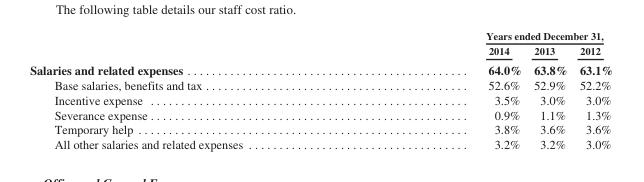table: (29, 28, 612, 151)
table column: (29, 28, 363, 151), (363, 28, 527, 151), (527, 28, 572, 151), (572, 28, 612, 151)
table column header: (29, 28, 612, 59)
table row: (29, 59, 612, 77), (29, 42, 612, 59), (29, 77, 612, 92), (29, 92, 612, 107), (29, 121, 612, 136), (29, 136, 612, 151), (29, 28, 612, 42), (29, 107, 612, 121)
table spanning cell: (363, 28, 612, 42)
